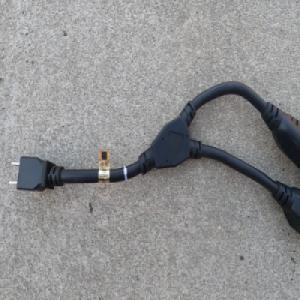Wire: (7, 79, 300, 236)
